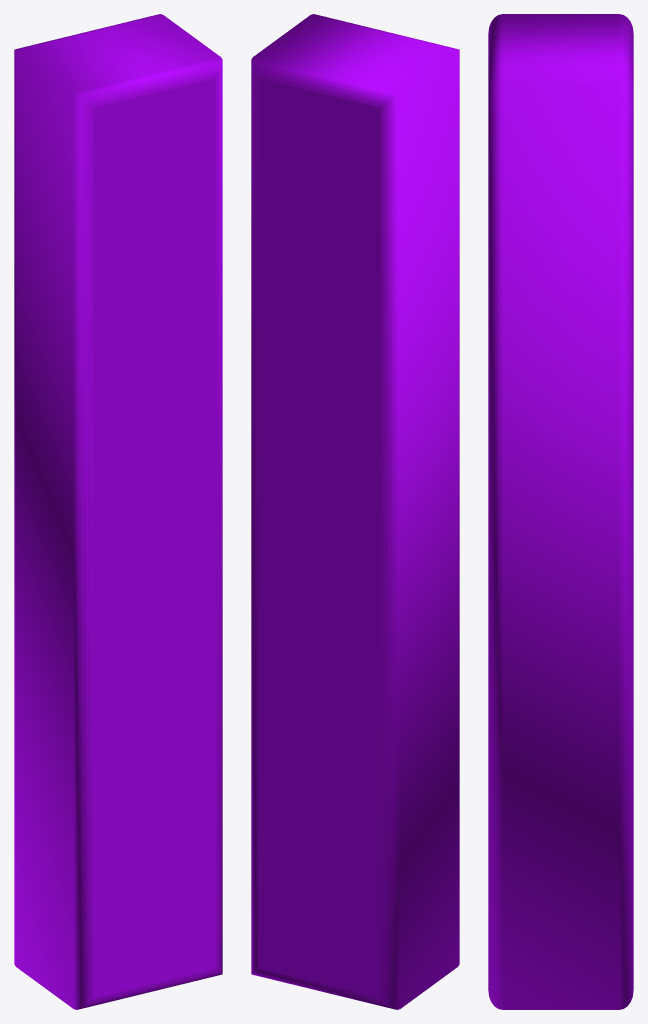
The picture shows the model from 3 angles, left to right: view 1: azimuth 30°, elevation 25°; view 2: azimuth 150°, elevation 25°; view 3: azimuth 270°, elevation 25°; orthographic projection.
Visible parts, largest first — view 1: II; view 2: II; view 3: II.
Part boxes in pixels (x1=…): II: x1=14, y1=14, x2=222, y2=1009; II: x1=251, y1=14, x2=459, y2=1009; II: x1=488, y1=14, x2=633, y2=1009.
Bounding box in the file's own units: 0.084 × 0.5 × 0.0712.
